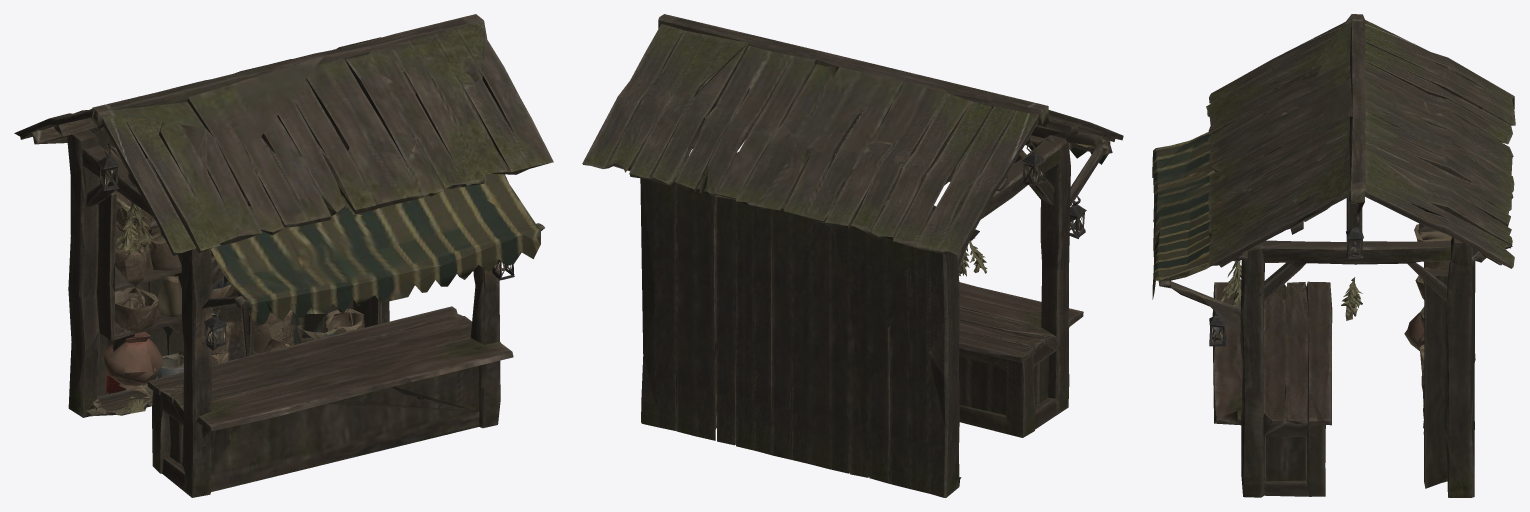
File: sp_m_booth.glb
3 renders of one model, left to right at view 1: azimuth 30°, elevation 25°; view 2: azimuth 150°, elevation 25°; view 3: azimuth 270°, elevation 25°, orthographic. The views are drawn at different scales.
Visible parts, largest first — view 1: Mesh_0; view 2: Mesh_0; view 3: Mesh_0.
Part boxes in pixels (<box>): Mesh_0: <box>14,14,553,497</box>; Mesh_0: <box>582,14,1123,497</box>; Mesh_0: <box>1152,14,1515,497</box>.
Bounding box in the file's own units: 1.89 × 1.65 × 1.66.
1 material, 1 textured.
